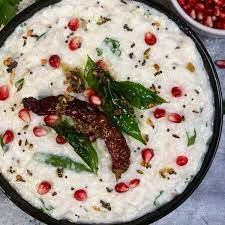curd_rice: (4, 3, 214, 220)
